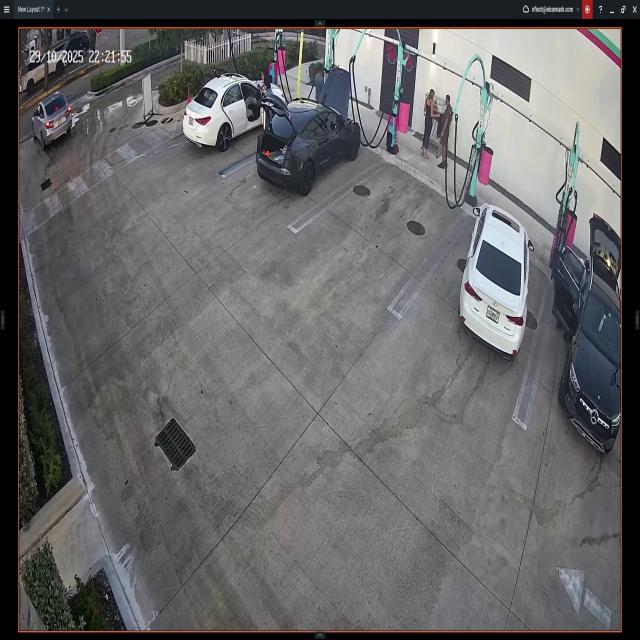Car: (553, 218, 620, 454), (258, 70, 359, 200), (459, 198, 533, 358), (185, 72, 285, 151), (31, 90, 73, 150)
